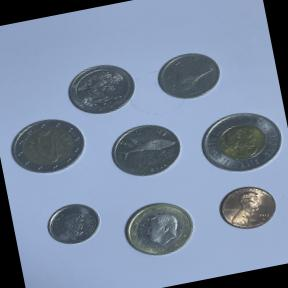coin: (189, 102, 288, 185), (112, 190, 207, 268), (2, 110, 92, 184), (103, 115, 190, 187), (61, 56, 142, 122), (209, 174, 287, 238), (38, 194, 108, 253)
